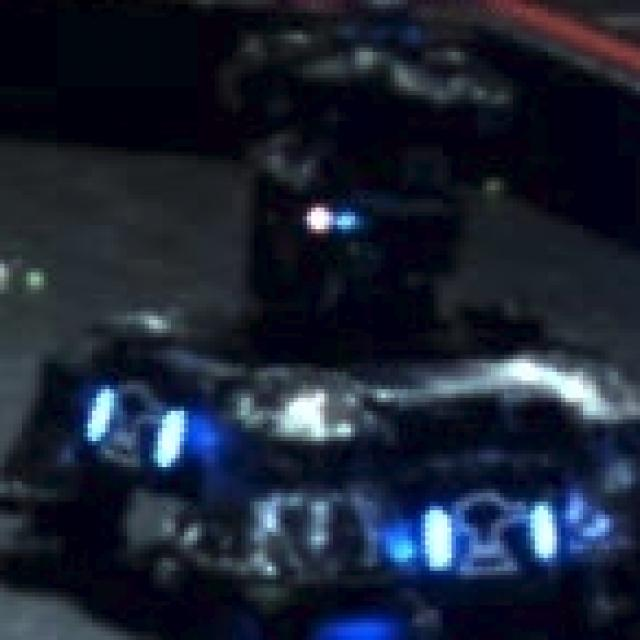Bs: (83, 381, 180, 472), (425, 514, 561, 570)
